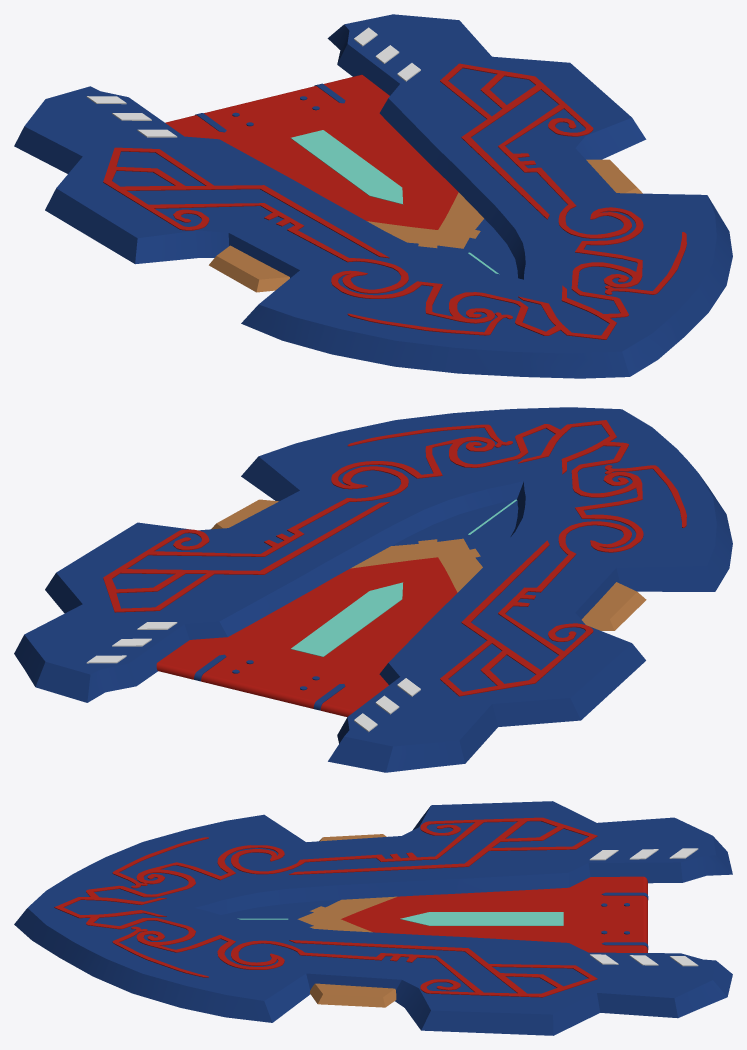
The model's file is Kiara-Shield.fbx.
3 renders of one model, top to bottom at view 1: azimuth 30°, elevation 25°; view 2: azimuth 150°, elevation 25°; view 3: azimuth 270°, elevation 25°, orthographic. The views are drawn at different scales.
Parts seen in each view (by area): view 1: Kiara Shield; view 2: Kiara Shield; view 3: Kiara Shield.
Part boxes in pixels (x1,y1,x2,y2): Kiara Shield: (14, 14, 732, 378); Kiara Shield: (14, 407, 732, 772); Kiara Shield: (14, 801, 732, 1035).
Bounding box in the file's own units: 426 × 19.78 × 581.
